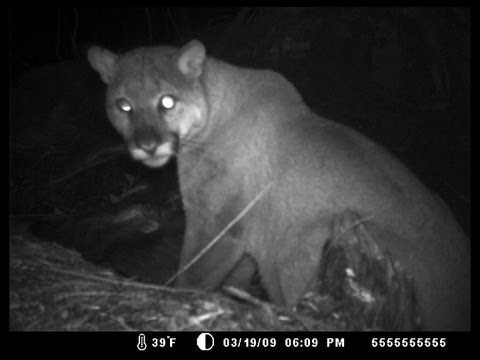mountain lion: (86, 33, 470, 324)
